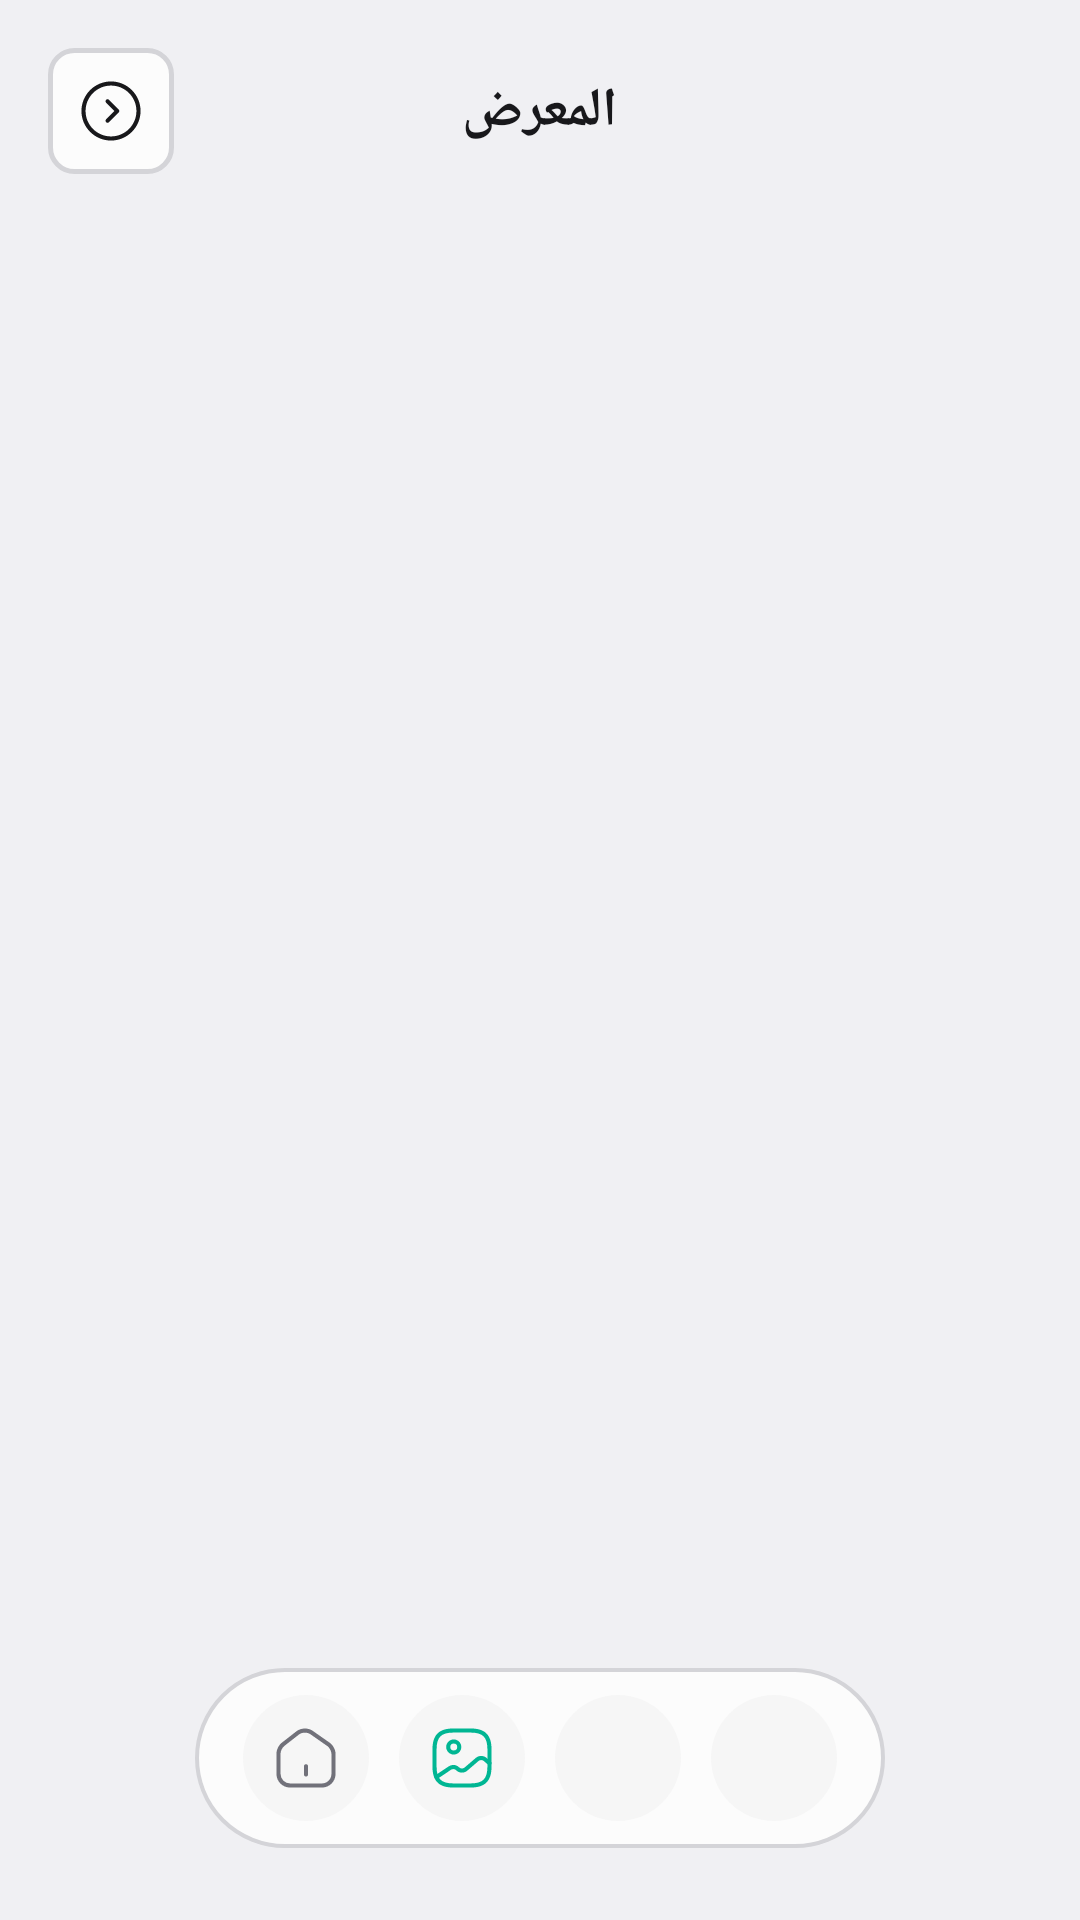

Screen size 1080px×1920px. Icon name, then its box in pixels as (x1, y1, x2, y2):
arrow: (48, 48, 174, 174)
gallery: (432, 1728, 492, 1788)
home: (276, 1728, 336, 1788)
